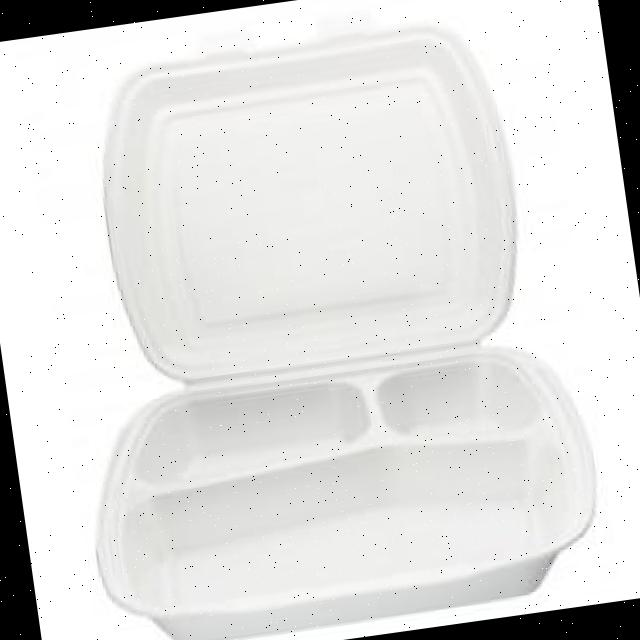styrofoam: (24, 3, 612, 640)
